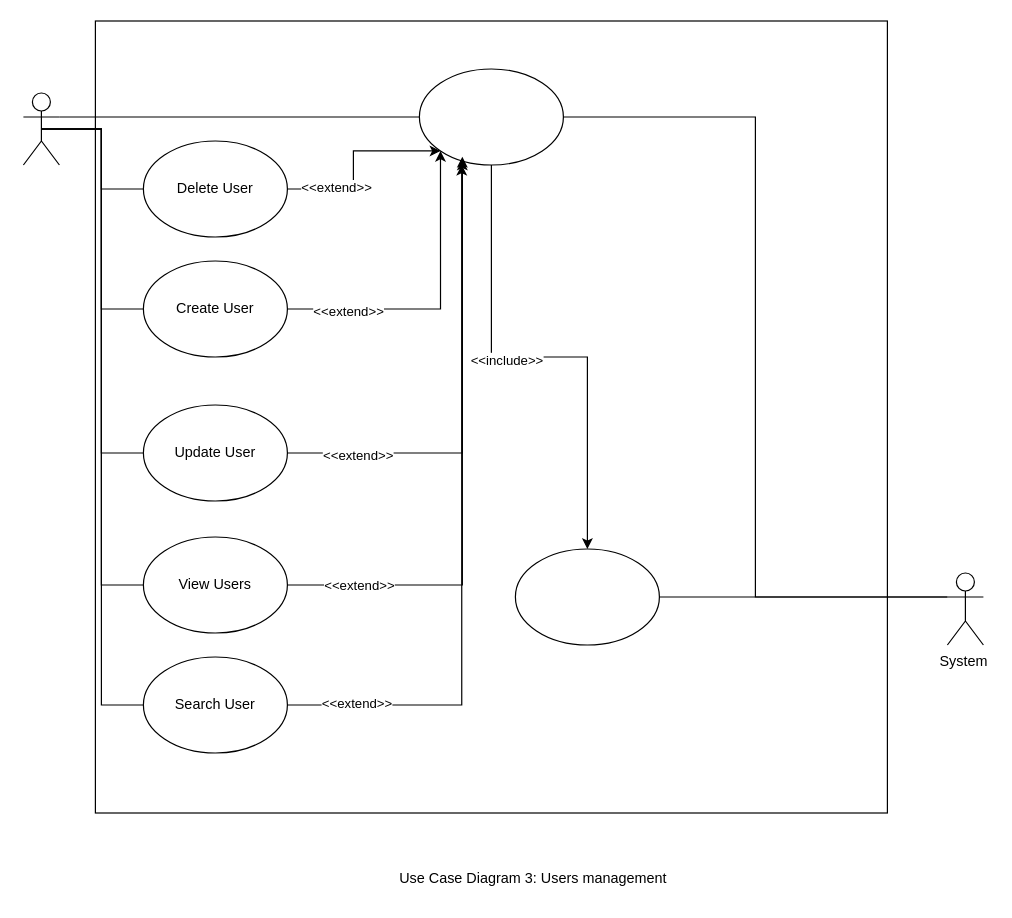
Image size: 1012x918. Some labels were removed from this diagram. The centre of each missing label's shape, as x and y in pixels:
"Admin" belongs at pixel 40 128.
"Authenticate" belongs at pixel 586 596.
"Manage Users" belongs at pixel 490 116.
